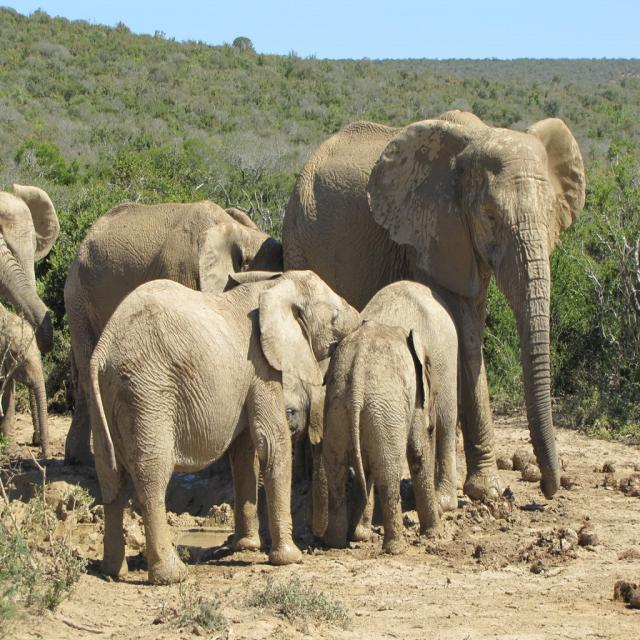elephant: (295, 112, 597, 501), (83, 263, 361, 589), (59, 203, 294, 462), (354, 282, 483, 520), (304, 340, 442, 556), (0, 175, 60, 472)
